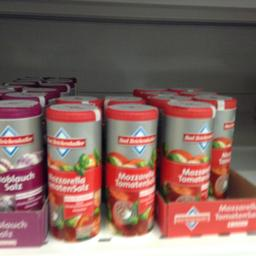spices: (44, 100, 102, 242), (104, 100, 158, 234), (161, 98, 214, 200), (0, 97, 42, 209)
